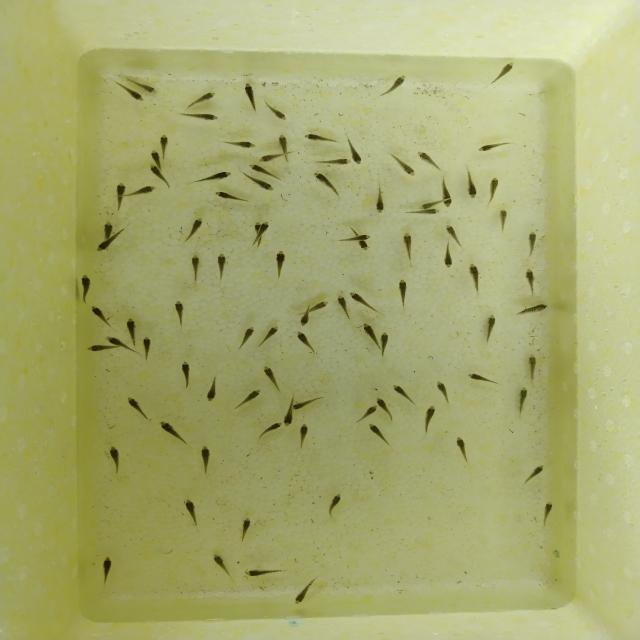fingerling: (156, 420, 190, 445), (347, 290, 379, 315), (232, 387, 264, 410), (293, 580, 319, 607), (193, 170, 232, 188), (210, 551, 236, 578), (374, 332, 394, 366), (391, 153, 418, 178), (366, 424, 394, 448), (106, 444, 127, 476), (125, 395, 152, 419), (256, 326, 282, 350), (394, 384, 421, 407), (384, 74, 412, 96), (311, 168, 336, 192), (492, 63, 516, 88), (213, 188, 247, 205), (183, 217, 206, 241), (150, 166, 175, 188), (520, 465, 546, 486), (88, 304, 114, 325), (215, 139, 254, 153), (196, 444, 213, 476), (436, 379, 454, 409), (418, 150, 443, 171), (184, 502, 202, 531), (376, 395, 396, 421), (262, 364, 282, 390), (243, 78, 258, 112), (514, 387, 531, 417), (295, 423, 312, 453), (421, 409, 440, 435), (468, 368, 494, 387), (170, 299, 187, 328), (328, 492, 346, 519), (294, 332, 316, 354), (275, 252, 292, 280), (256, 424, 281, 443), (362, 324, 381, 348), (92, 237, 120, 253), (485, 178, 501, 206), (398, 279, 414, 307), (525, 266, 538, 300), (464, 170, 478, 201), (304, 300, 335, 314), (123, 186, 159, 198), (238, 328, 255, 353), (239, 519, 256, 544), (180, 362, 195, 390), (100, 553, 114, 583), (300, 133, 338, 144), (456, 437, 472, 463), (348, 143, 366, 166), (243, 567, 280, 578), (375, 179, 386, 216), (313, 158, 350, 169), (515, 304, 548, 316), (336, 295, 351, 321), (290, 398, 322, 410), (187, 258, 203, 282), (266, 104, 288, 121), (205, 380, 221, 403), (486, 311, 499, 339), (498, 208, 512, 234), (138, 80, 160, 96), (114, 181, 127, 208), (159, 135, 173, 160), (120, 91, 149, 103), (442, 186, 457, 209), (480, 141, 506, 154), (400, 230, 413, 256), (246, 164, 272, 177), (79, 270, 91, 298), (195, 88, 216, 104), (467, 264, 482, 286), (542, 503, 555, 528), (446, 224, 464, 242), (528, 356, 540, 383), (216, 252, 228, 279), (143, 339, 157, 362), (258, 152, 290, 162), (257, 220, 270, 244), (250, 178, 276, 190), (528, 232, 541, 255), (279, 412, 297, 428), (86, 346, 122, 354), (104, 337, 130, 348), (359, 404, 378, 419), (443, 246, 455, 268), (98, 222, 115, 237), (125, 318, 138, 337), (345, 232, 371, 241), (184, 114, 221, 120), (419, 200, 441, 210), (278, 134, 290, 152), (149, 150, 161, 166), (403, 210, 440, 215), (507, 427, 521, 439), (299, 316, 311, 328), (358, 241, 370, 252)
